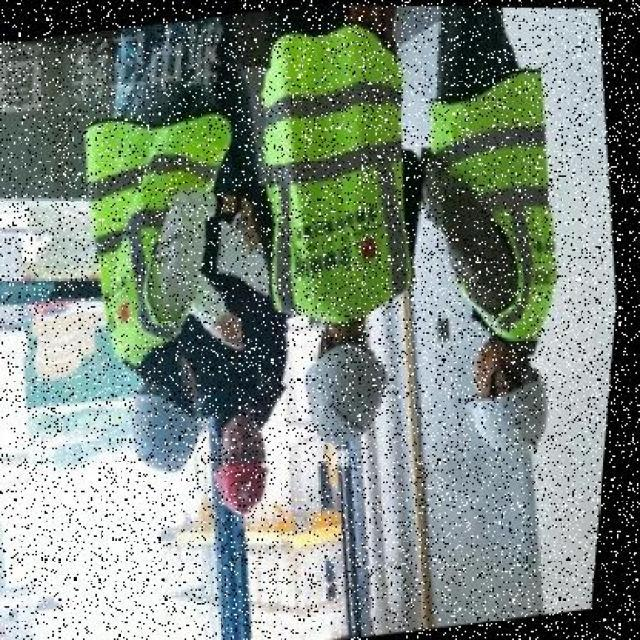helmet: (295, 337, 401, 451), (120, 376, 217, 477), (462, 375, 566, 465), (217, 457, 282, 513)
vest: (235, 3, 439, 336), (412, 55, 584, 347), (60, 98, 219, 348)
